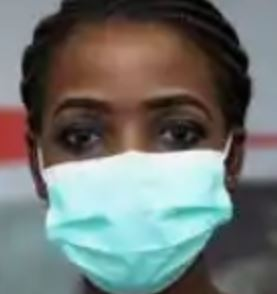with_facemask: (47, 152, 219, 277)
